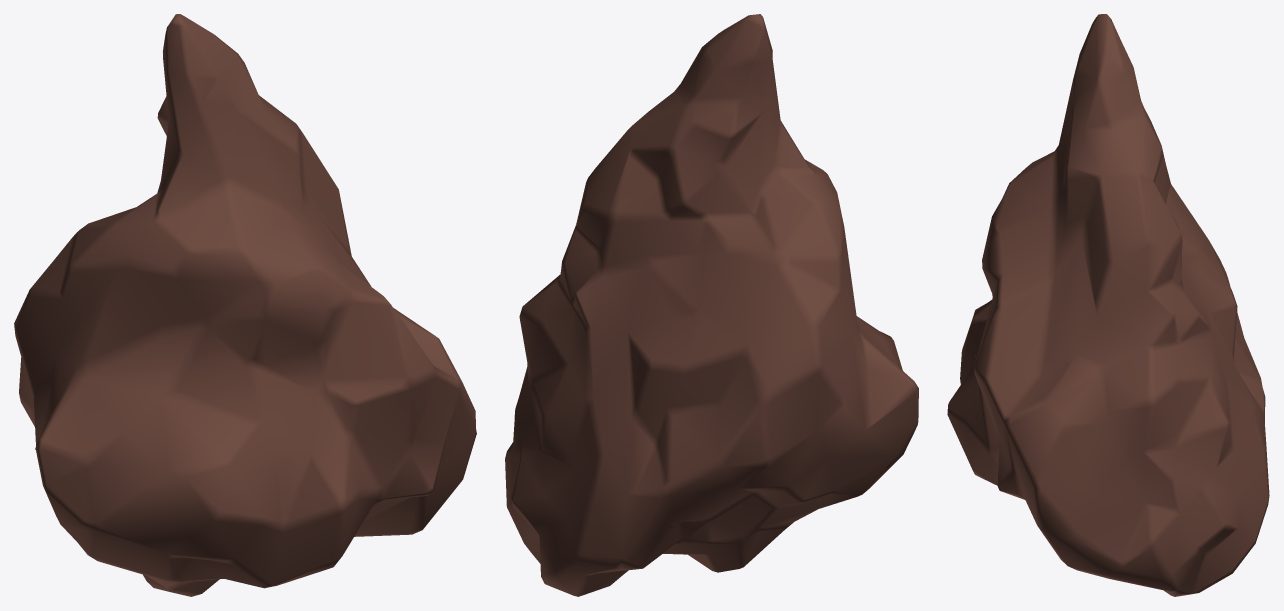
Rendered from p_mesh_hvs_stalagmite_large02_destruction_part02.fbx.
3 renders of one model, left to right at view 1: azimuth 30°, elevation 25°; view 2: azimuth 150°, elevation 25°; view 3: azimuth 270°, elevation 25°, orthographic. The views are drawn at different scales.
Visible parts, largest first — view 1: p_large02_part2; view 2: p_large02_part2; view 3: p_large02_part2.
Part boxes in pixels (<box>): p_large02_part2: <box>14,14,476,596</box>; p_large02_part2: <box>505,14,918,596</box>; p_large02_part2: <box>947,14,1269,596</box>.
Size of the model in its own units: 7.65 by 10.81 by 6.12.
